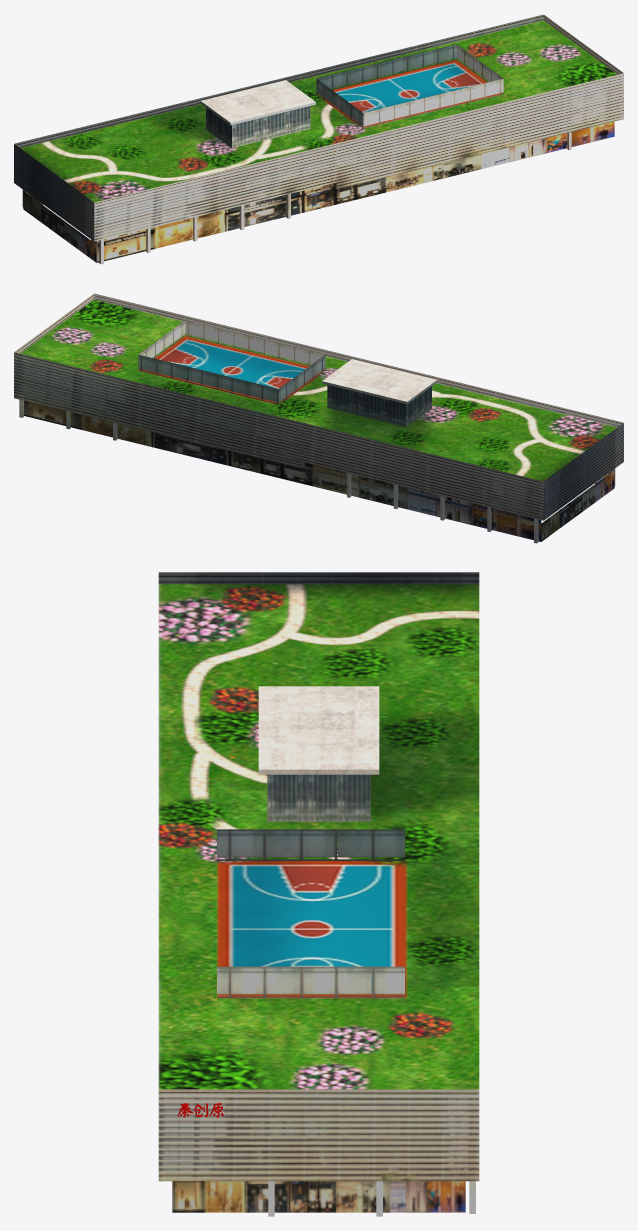
Rendered from 4A Conference and Exhibition.obj.
3 renders of one model, top to bottom at view 1: azimuth 30°, elevation 25°; view 2: azimuth 150°, elevation 25°; view 3: azimuth 270°, elevation 25°, orthographic. The views are drawn at different scales.
Parts seen in each view (by area): view 1: 4A_Conference_and_Exhibition; view 2: 4A_Conference_and_Exhibition; view 3: 4A_Conference_and_Exhibition.
Part boxes in pixels (<box>): 4A_Conference_and_Exhibition: <box>14,14,623,264</box>; 4A_Conference_and_Exhibition: <box>14,293,623,543</box>; 4A_Conference_and_Exhibition: <box>158,572,479,1216</box>.
Size of the model in its own units: 134 by 20.85 by 35.09.
Materials: 1 (1 with a texture image).
